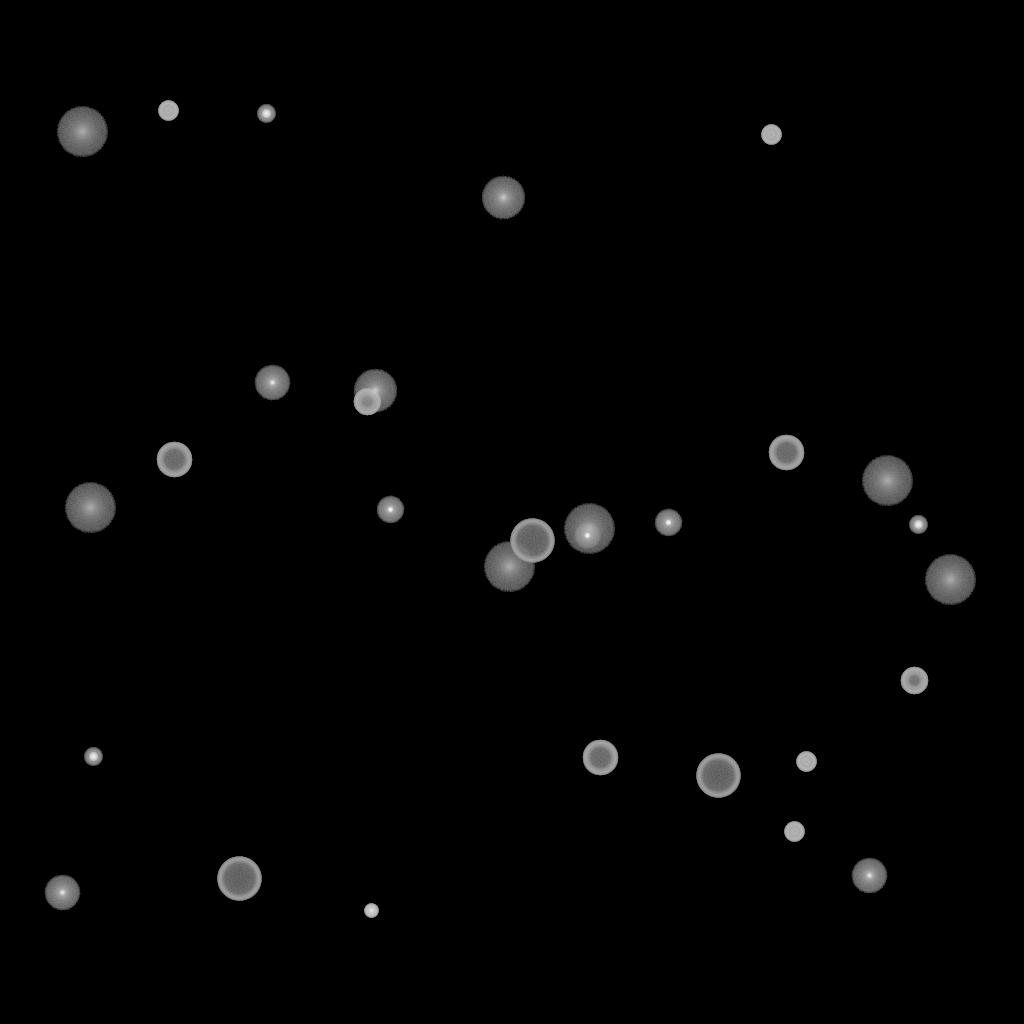depth:-10: (654, 509, 682, 537), (376, 496, 404, 524), (573, 522, 601, 550)
depth:-20: (909, 516, 927, 534), (84, 748, 102, 766), (257, 105, 275, 123)
depth:-30: (364, 904, 378, 918)
depth:-40: (796, 752, 816, 772), (761, 125, 781, 145), (784, 822, 804, 842), (158, 101, 178, 121)
depth:-50: (900, 667, 928, 695), (353, 388, 381, 416)
depth:-60: (156, 442, 192, 478), (582, 740, 618, 776), (768, 435, 804, 471)
depth:-70: (510, 519, 554, 563), (217, 857, 261, 901), (696, 754, 740, 798)
depth:0: (254, 365, 290, 401), (44, 875, 80, 911), (851, 858, 887, 894)
depth:10: (353, 369, 397, 413), (481, 176, 525, 220)
depth:20: (64, 483, 116, 533), (563, 504, 615, 554), (861, 456, 913, 506), (924, 555, 976, 605), (56, 107, 108, 157), (483, 542, 535, 592)
